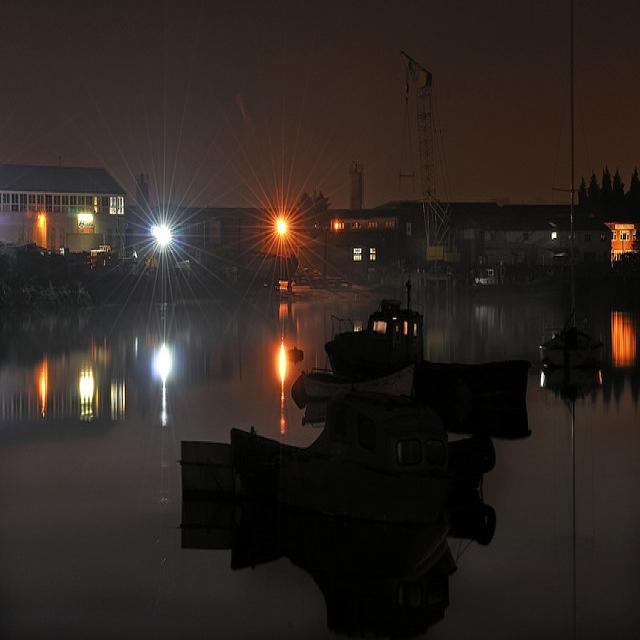Boat: (157, 422, 453, 640), (279, 281, 569, 457)
